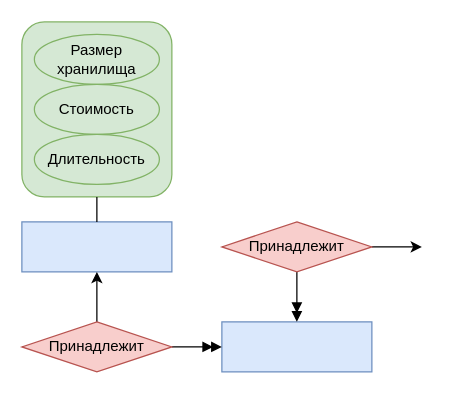
This 454x394 diagram has some shape labels left out. Each missing label, with the centre of its shape:
Подписка: the point at 96,246
Подписка-Пользователь: the point at 296,346
